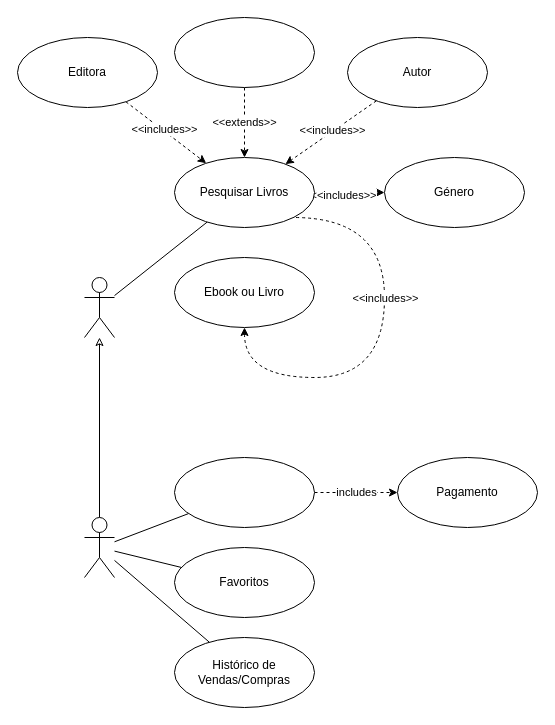
This 555x725 diagram has some shape labels left out. The centre of each missing label's shape, as x and y in pixels:
Cliente: (99,307)
Cliente (com sessão): (99,547)
Comprar Livro: (244,492)
KeyWords: (244,52)
